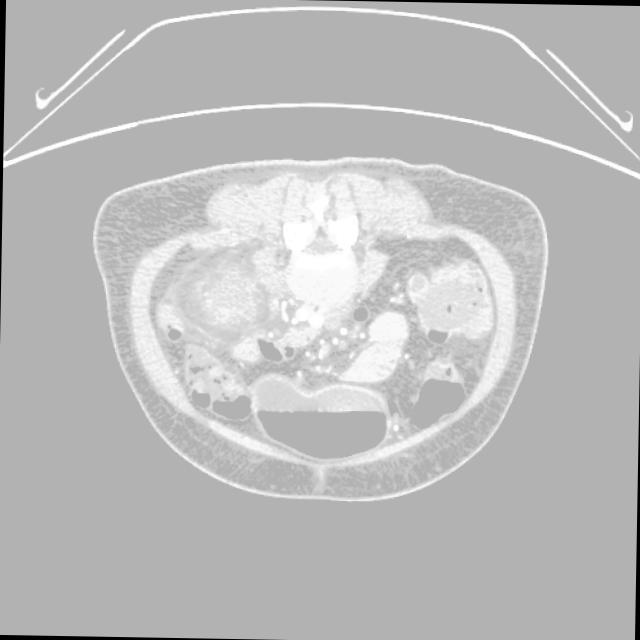TUMOR: (114, 226, 347, 364)
